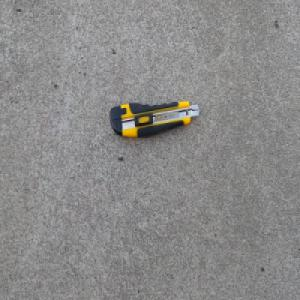Cutter: (109, 100, 199, 138)
